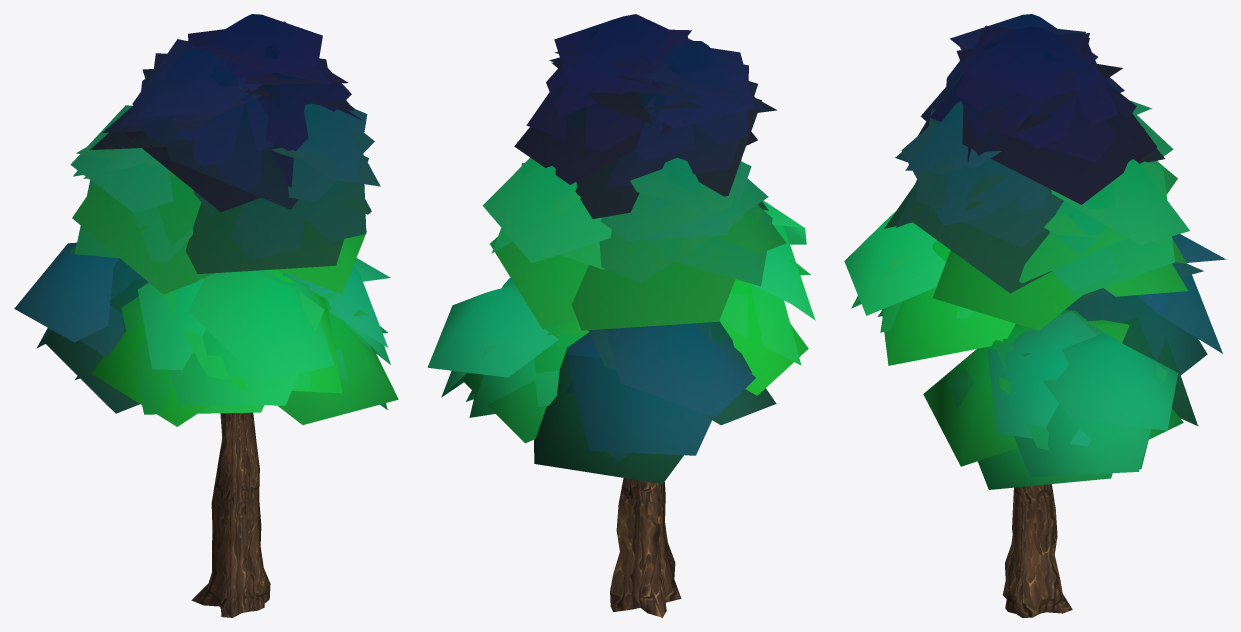
Rendered from FantasyTree13.fbx.
3 renders of one model, left to right at view 1: azimuth 30°, elevation 25°; view 2: azimuth 150°, elevation 25°; view 3: azimuth 270°, elevation 25°, orthographic.
Visible parts, largest first — view 1: fantasyleaf4_alpha_1, tree2_0; view 2: fantasyleaf4_alpha_1, tree2_0; view 3: fantasyleaf4_alpha_1, tree2_0.
Boxes of the visible parts, bbox=[...] form: fantasyleaf4_alpha_1: bbox=[14, 14, 398, 426]; tree2_0: bbox=[191, 412, 270, 617]; fantasyleaf4_alpha_1: bbox=[427, 14, 815, 483]; tree2_0: bbox=[610, 478, 681, 617]; fantasyleaf4_alpha_1: bbox=[844, 14, 1226, 489]; tree2_0: bbox=[1002, 484, 1072, 617].
Size of the model in its own units: 294 by 509 by 301.
1 material, 1 textured.
